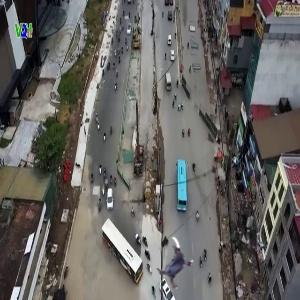drone: (149, 239, 202, 292)
